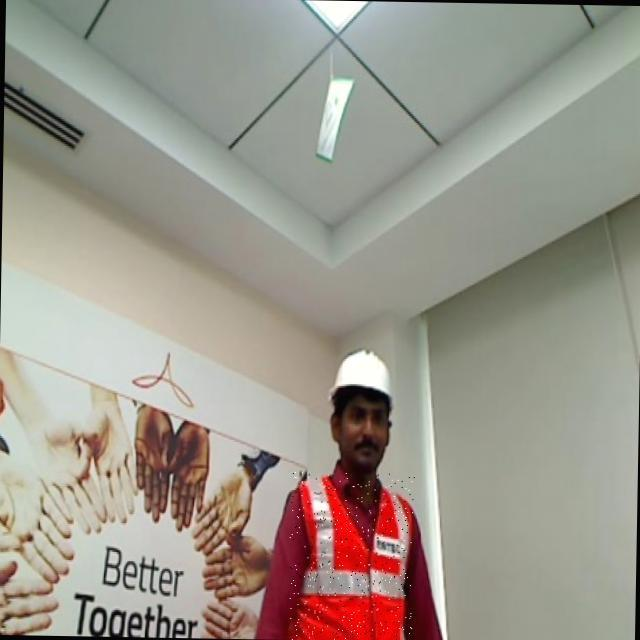helmet: (321, 343, 407, 420)
vest: (287, 471, 414, 640)
